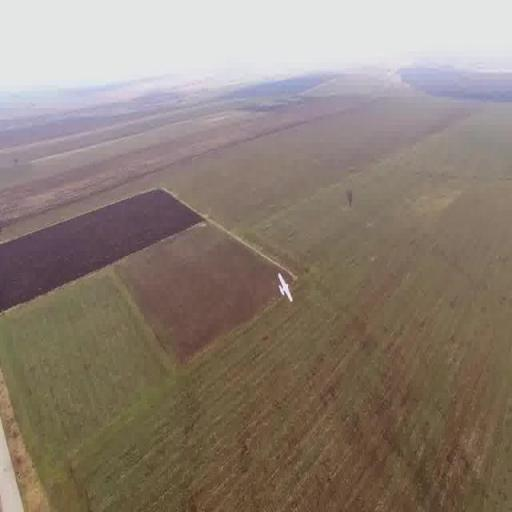uav: (274, 270, 300, 310)
